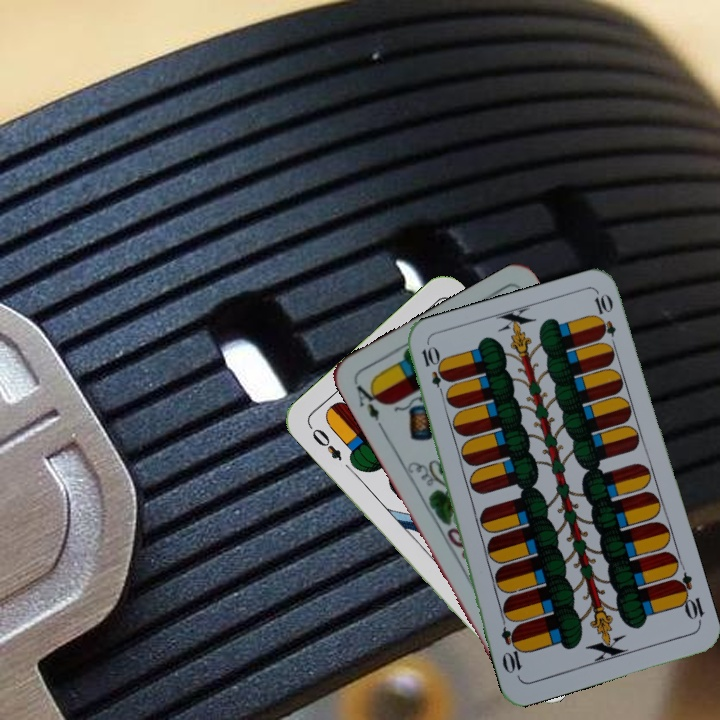E10: (669, 569, 708, 627), (417, 342, 449, 401)
EA: (351, 378, 385, 424)
EO: (305, 421, 345, 464)
